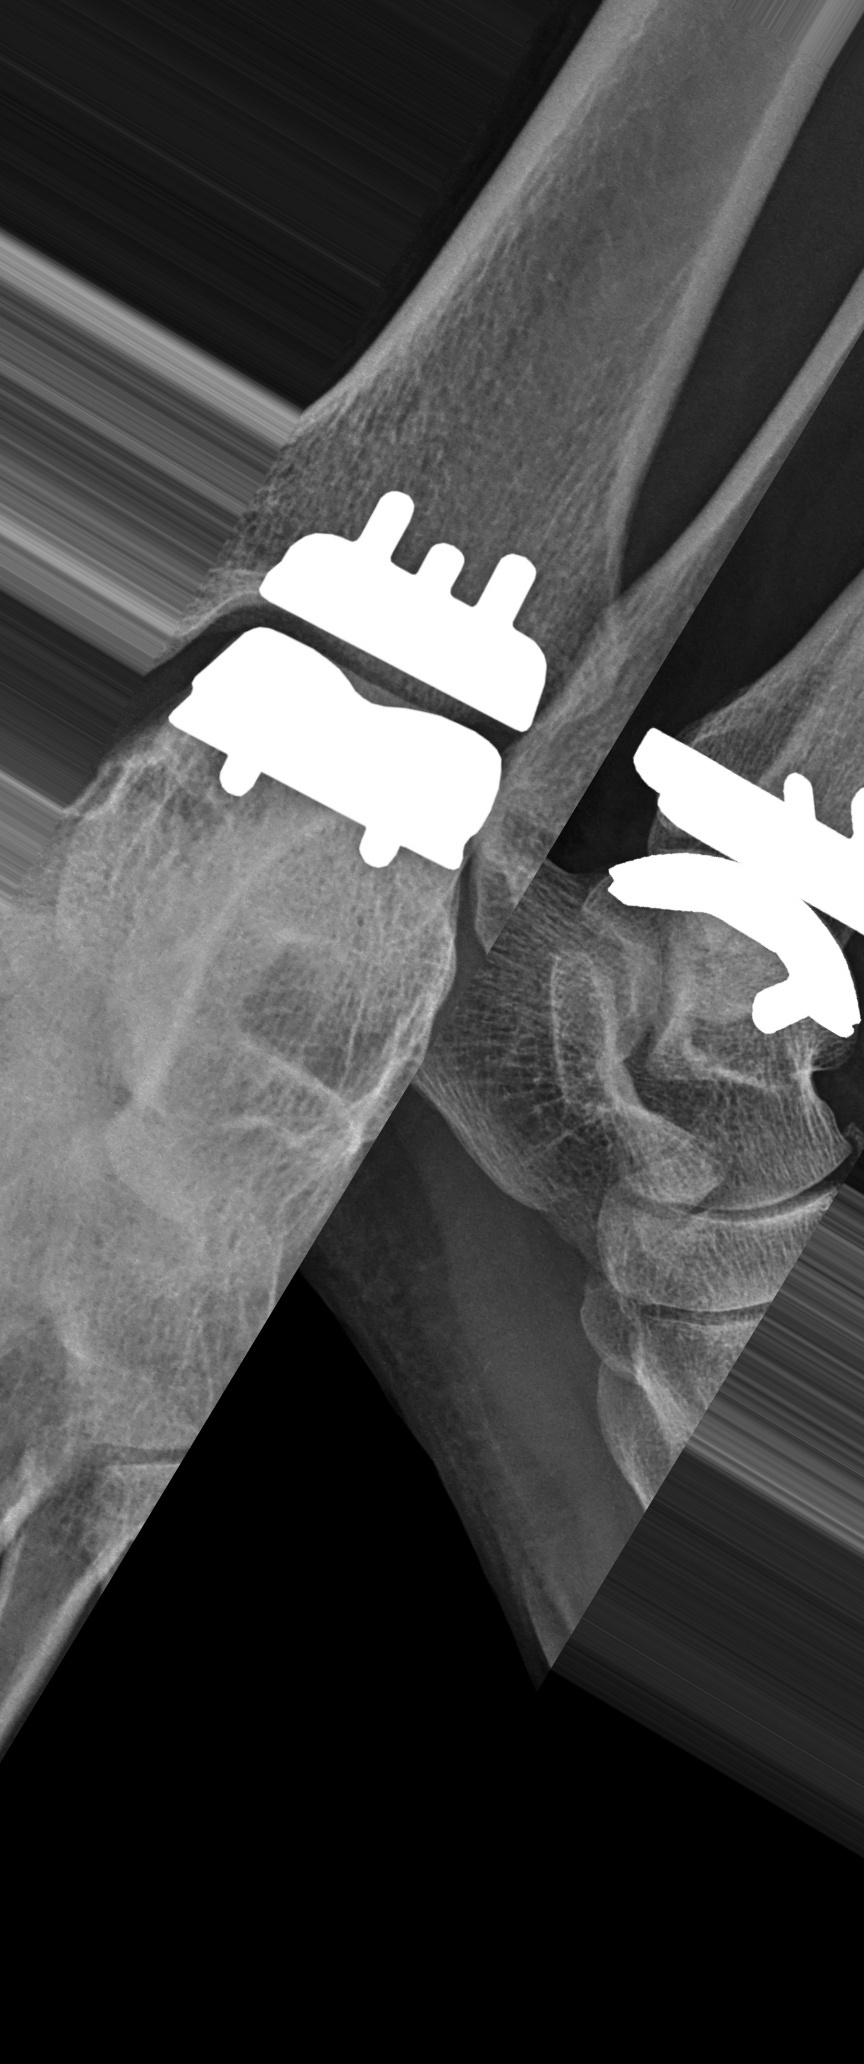Ankle - Infinity - Wright: (167, 479, 558, 911), (593, 700, 864, 1060)
